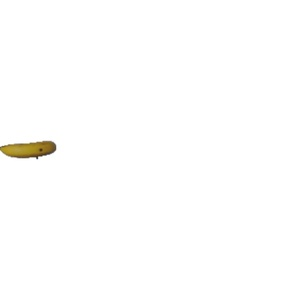banana: (1, 133, 60, 165)
